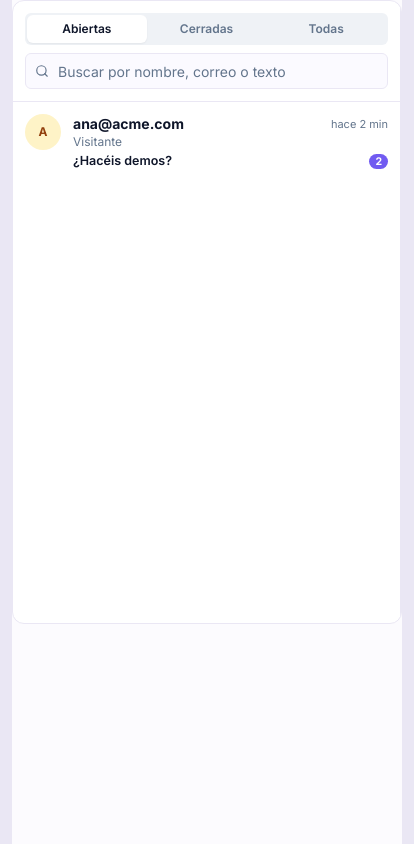
Test: TeamInbox › lista, abre el hilo y responde con Intro
Later steps or results of the test are not shown.
Click the text "ana@acme.com" at [128, 124], box [73, 114, 184, 134]
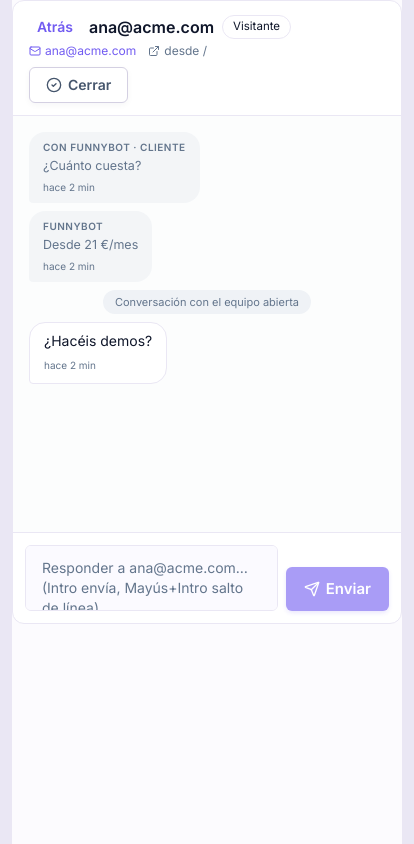
Expected: the text "Desde 21 €/mes" is shown, [43, 237, 138, 252]
Expected: the text "Conversación con el equipo abierta" is shown, [103, 290, 311, 314]
Replace the text in the text box named "Respuesta" with "Sí, ¿te va mañana a las 10?" at [151, 578], box [25, 545, 278, 611]
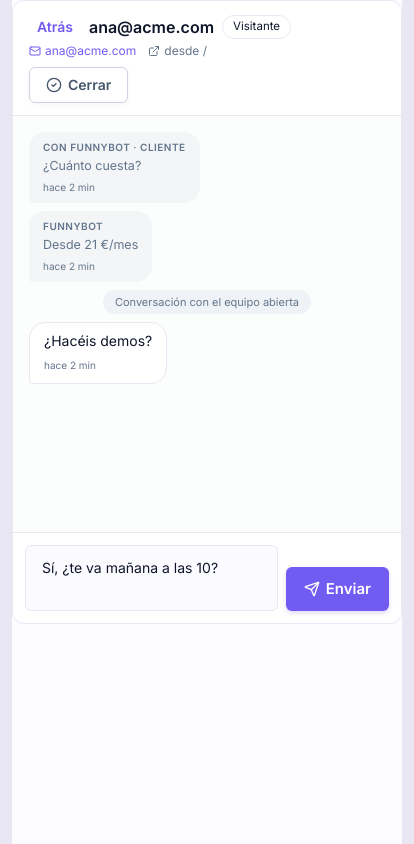
Press Enter in the text box named "Respuesta", box [25, 545, 278, 611]
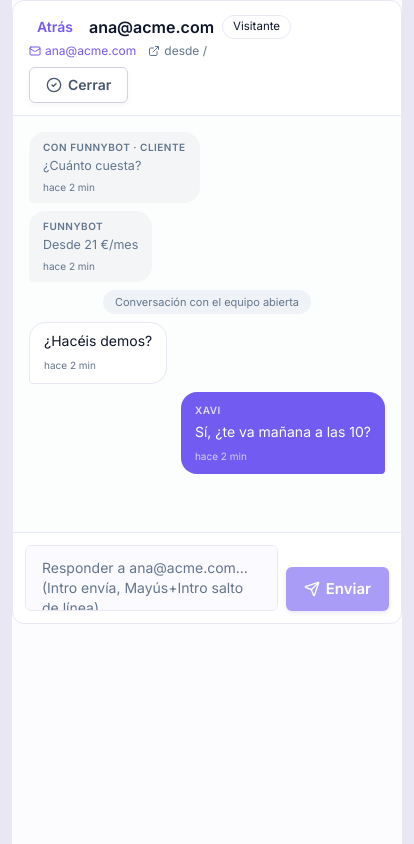
Expected: the text "Sí, ¿te va mañana a las 10?" is shown, [195, 423, 371, 440]
